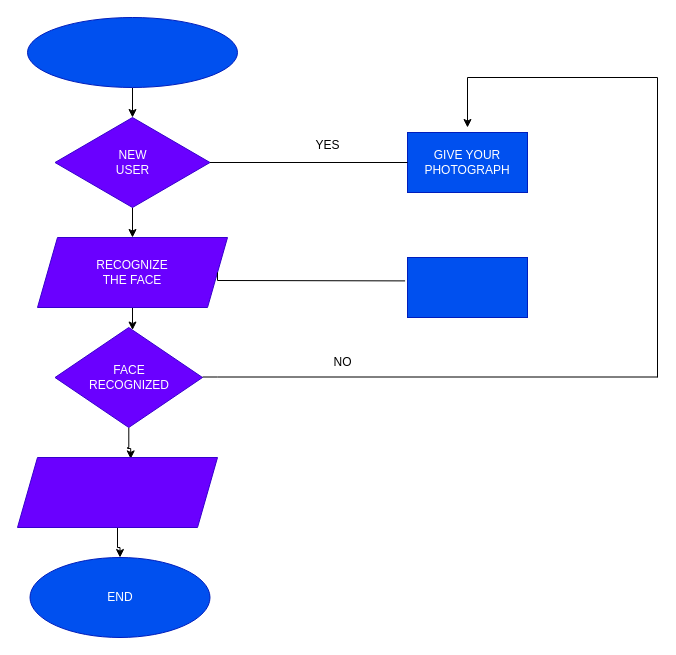
This 676x655 diagram has some shape labels left out. The shapes that lost their labels are listed below. From the top down, each one's centre as x and y in pixels, then its label:
At [132,52]: "START".
At [467,287]: "STORE THE FACE DATA IN FOLDER ON UR NAME".
At [117,492]: "STORE IN CSV FILE".
